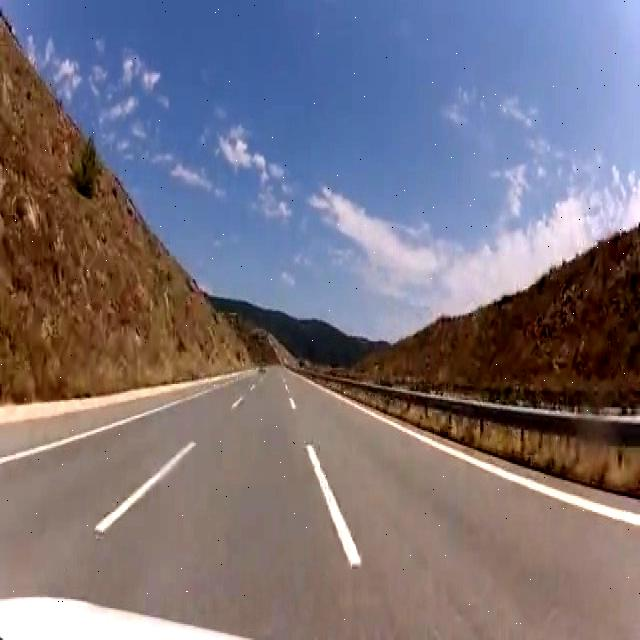lane: (97, 442, 195, 531), (308, 446, 360, 564)
road: (1, 368, 638, 638)
